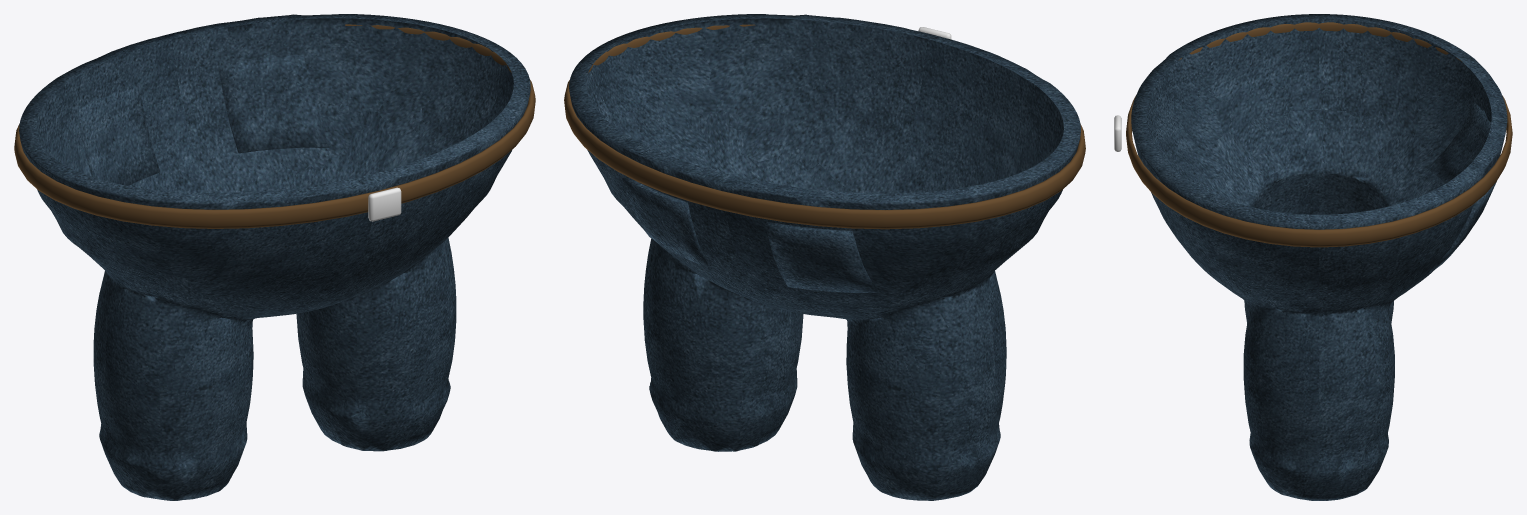
Rendered from jeans1.fbx.
The picture shows the model from 3 angles, left to right: view 1: azimuth 30°, elevation 25°; view 2: azimuth 150°, elevation 25°; view 3: azimuth 270°, elevation 25°; orthographic projection. The views are drawn at different scales.
Visible parts, largest first — view 1: jeans1; view 2: jeans1; view 3: jeans1.
Boxes of the visible parts, left/top/right/bottom form: jeans1: left=14, top=14, right=535, bottom=500; jeans1: left=564, top=14, right=1085, bottom=500; jeans1: left=1114, top=14, right=1512, bottom=500.
Bounding box in the file's own units: 0.8308 × 0.5779 × 0.6559.
Materials: 3 (1 with a texture image).
